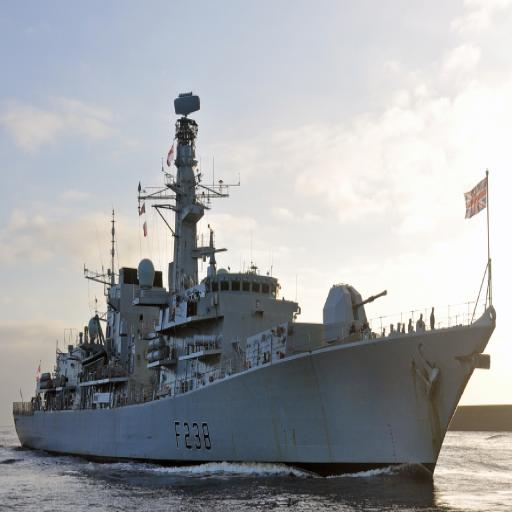Fragata: (9, 83, 500, 492)
